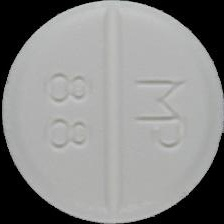63629-2736: (0, 0, 224, 224)
